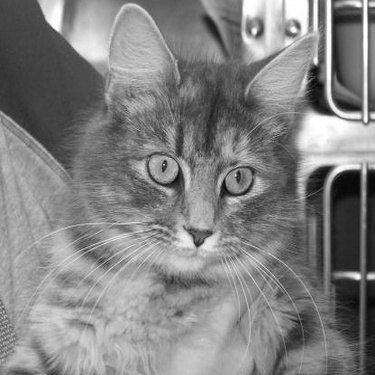cat: (65, 12, 354, 369)
